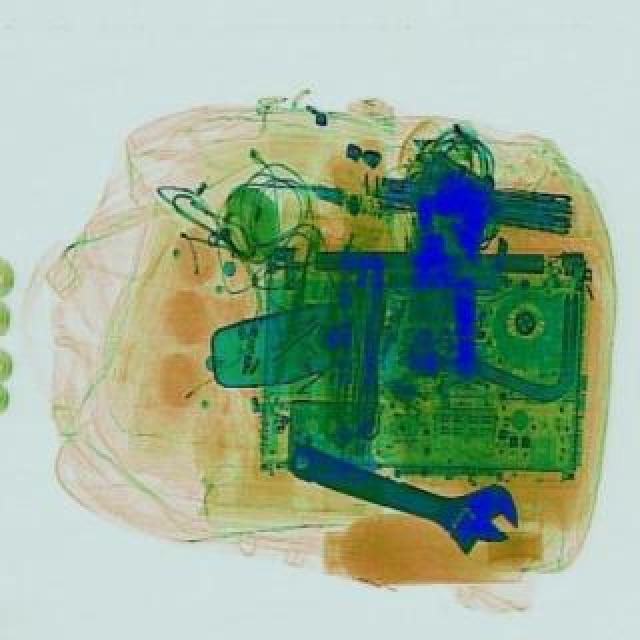scissors: (278, 416, 530, 564)
